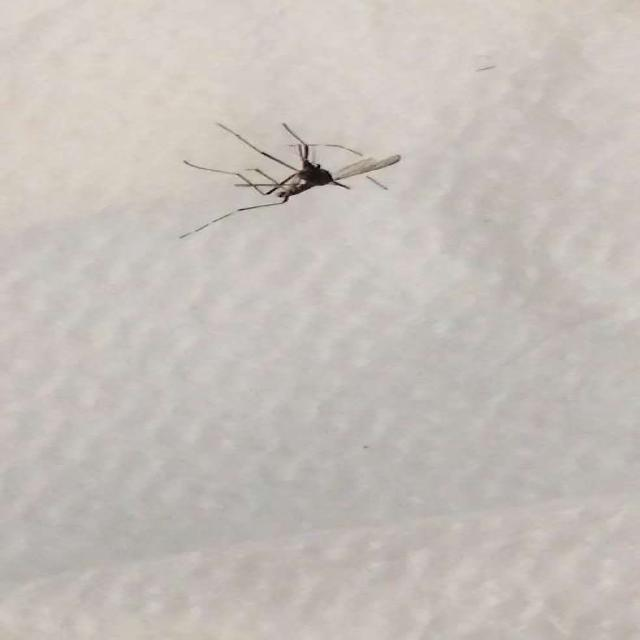albopictus: (170, 118, 404, 238)
